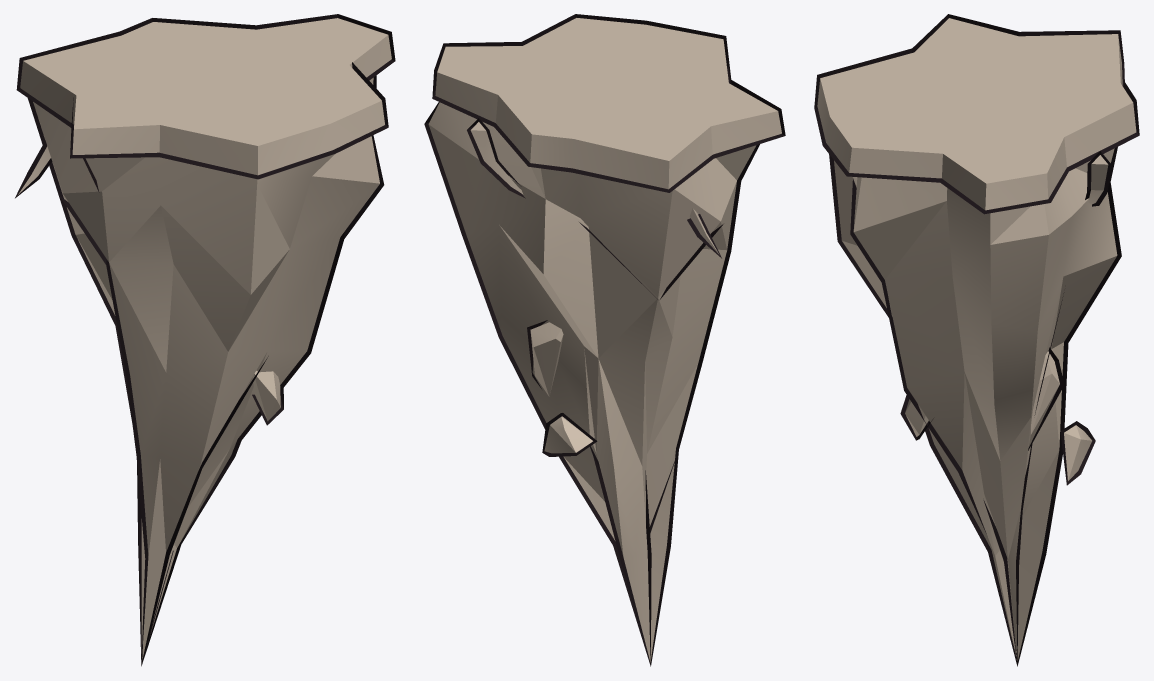
Rendered from SM_Trail_Islet_02.fbx.
The picture shows the model from 3 angles, left to right: view 1: azimuth 30°, elevation 25°; view 2: azimuth 150°, elevation 25°; view 3: azimuth 270°, elevation 25°; orthographic projection. The views are drawn at different scales.
Parts seen in each view (by area): view 1: SM_Trail_Islet_02; view 2: SM_Trail_Islet_02; view 3: SM_Trail_Islet_02.
Boxes of the visible parts, x1,y1,x2,y2 form: SM_Trail_Islet_02: (15, 14, 395, 666); SM_Trail_Islet_02: (424, 14, 785, 666); SM_Trail_Islet_02: (814, 14, 1139, 666).
Size of the model in its own units: 12.38 by 20.28 by 9.92.
